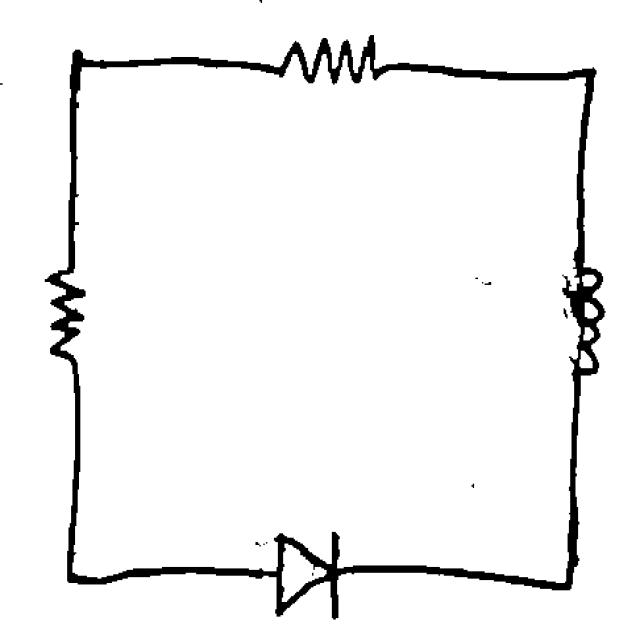diode: (257, 518, 355, 632)
inductor: (546, 256, 612, 388)
resistor: (28, 250, 107, 378), (262, 29, 392, 97)
